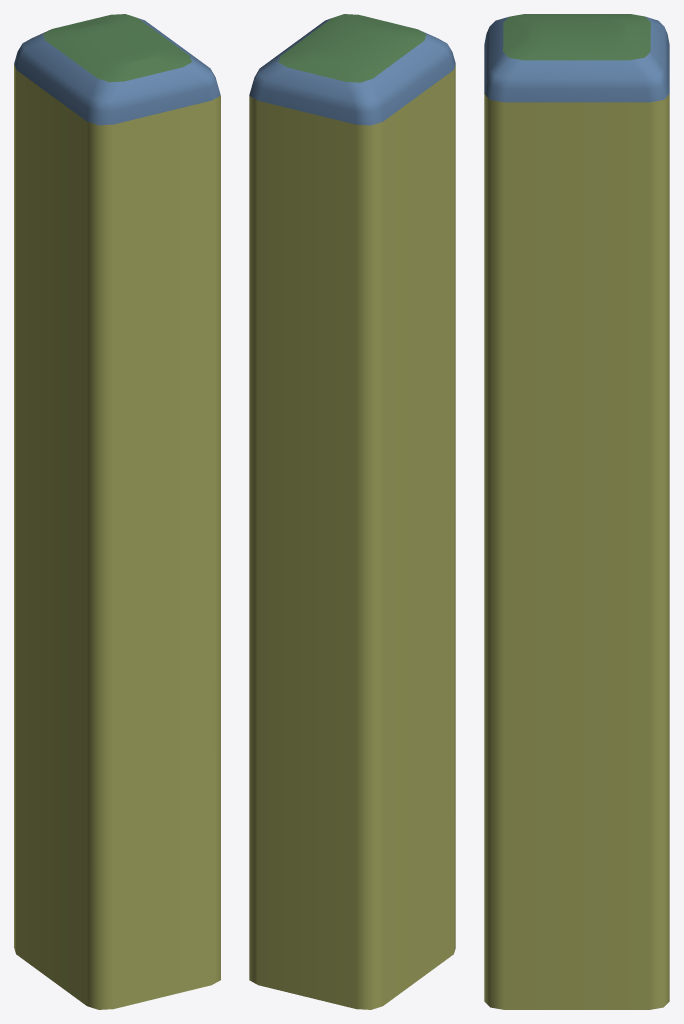
File: Mini_Plat_3.fbx
The picture shows the model from 3 angles, left to right: view 1: azimuth 30°, elevation 25°; view 2: azimuth 150°, elevation 25°; view 3: azimuth 270°, elevation 25°; orthographic projection. The views are drawn at different scales.
Visible parts, largest first — view 1: Mini_Plat_3, Wall1, Ground1; view 2: Mini_Plat_3, Wall1, Ground1; view 3: Mini_Plat_3, Wall1, Ground1.
Part boxes in pixels (x1=…): Mini_Plat_3: x1=14, y1=63, x2=220, y2=1009; Wall1: x1=14, y1=18, x2=220, y2=125; Ground1: x1=43, y1=14, x2=191, y2=82; Mini_Plat_3: x1=249, y1=65, x2=455, y2=1009; Wall1: x1=249, y1=18, x2=455, y2=125; Ground1: x1=278, y1=14, x2=426, y2=82; Mini_Plat_3: x1=484, y1=94, x2=669, y2=1009; Wall1: x1=484, y1=16, x2=669, y2=102; Ground1: x1=503, y1=14, x2=650, y2=60.
Bounding box in the file's own units: 2075 × 13844 × 2460.
